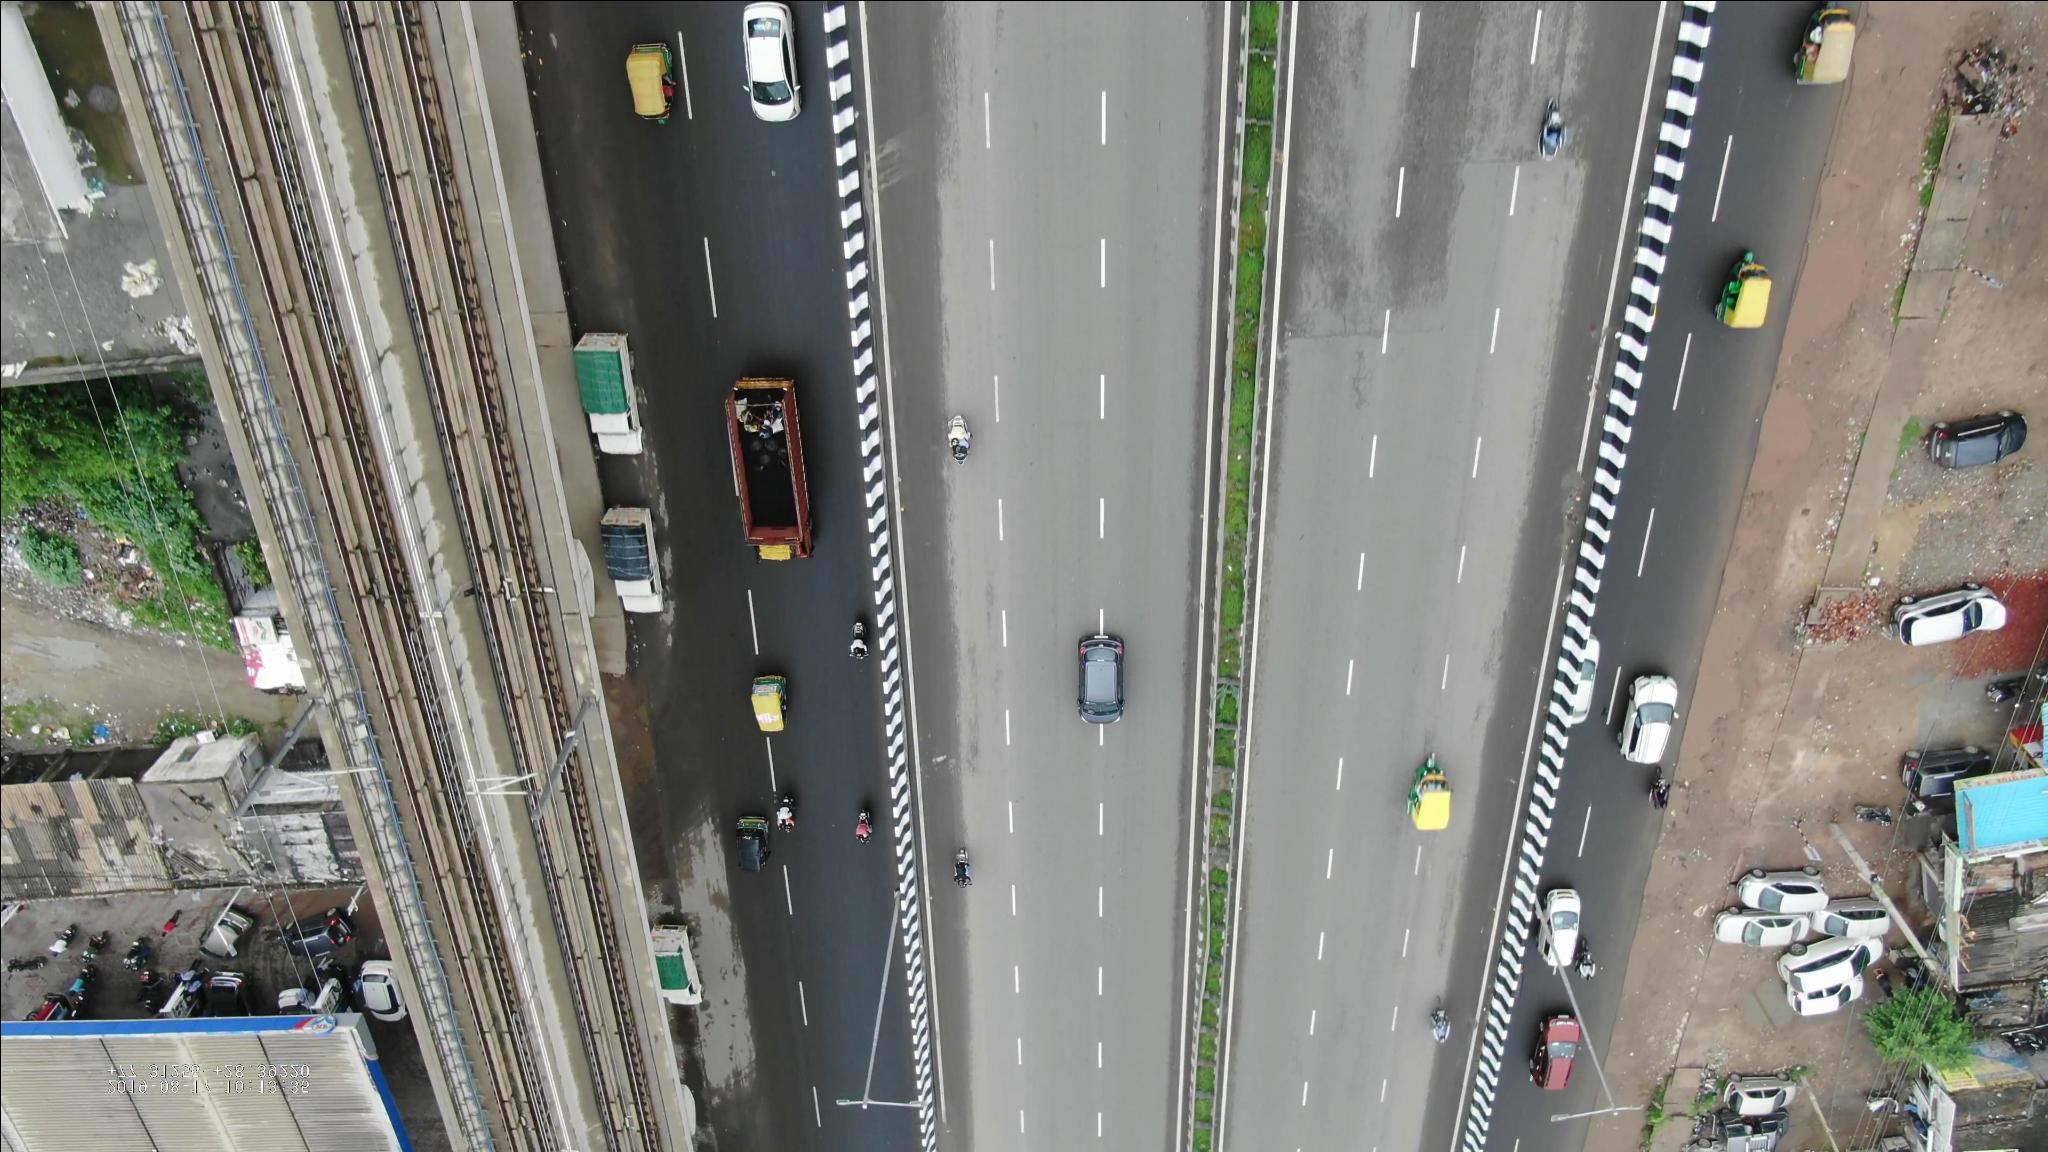Cracks: (1298, 295, 1450, 385)
